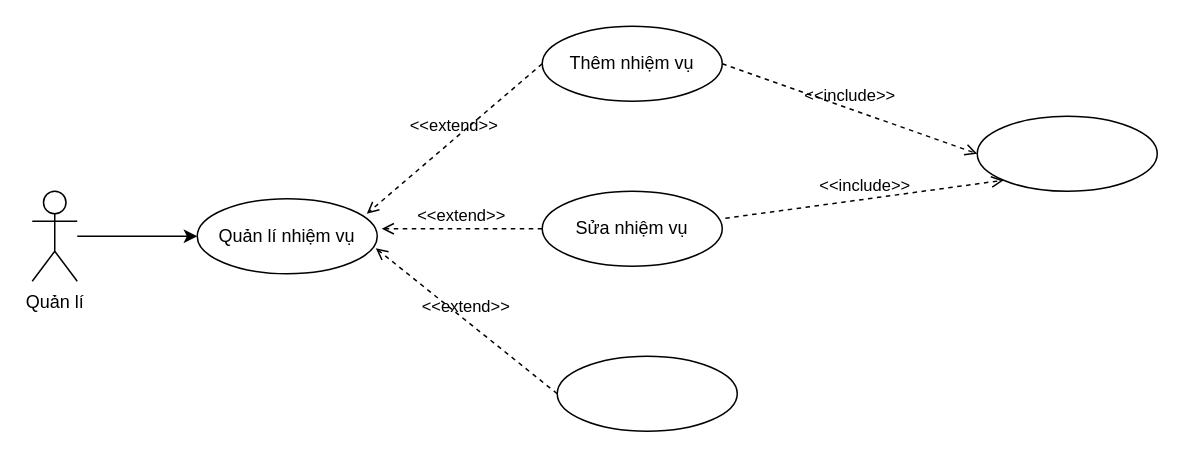
This 1184x458 diagram has some shape labels left out. Here are the shapes that lost their labels. From the top down, the centre of each, then its label:
point (1066, 153): Danh sách nhiệm vụ
point (646, 393): Xóa nhiệm vụ
